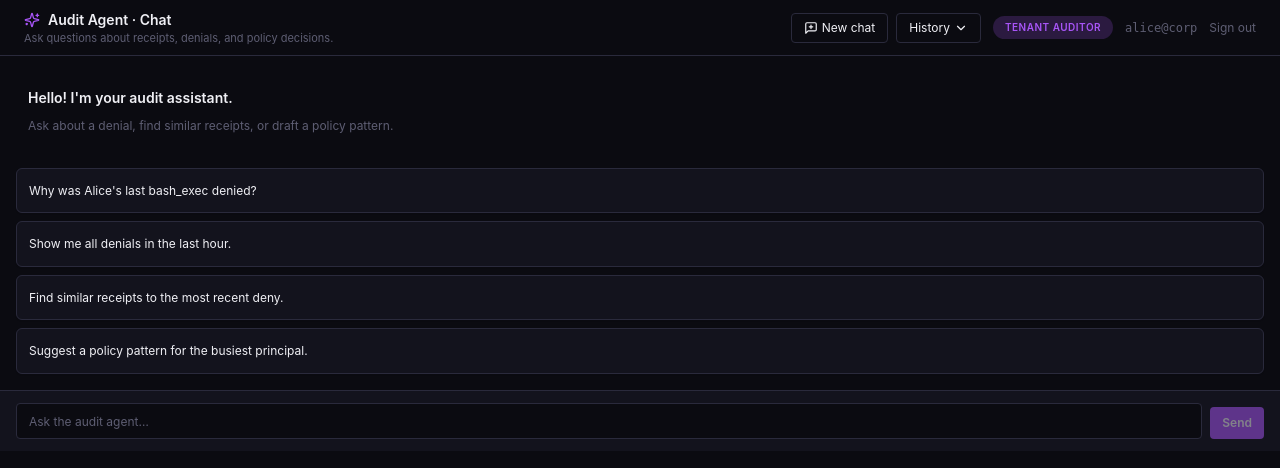
ChatPage — F5 standalone chat surface › History dropdown opens on click and lists past conversations
The image size is (1280, 468).
Click the button with test id "chat-history-toggle" at (939, 28), box [896, 12, 981, 42]
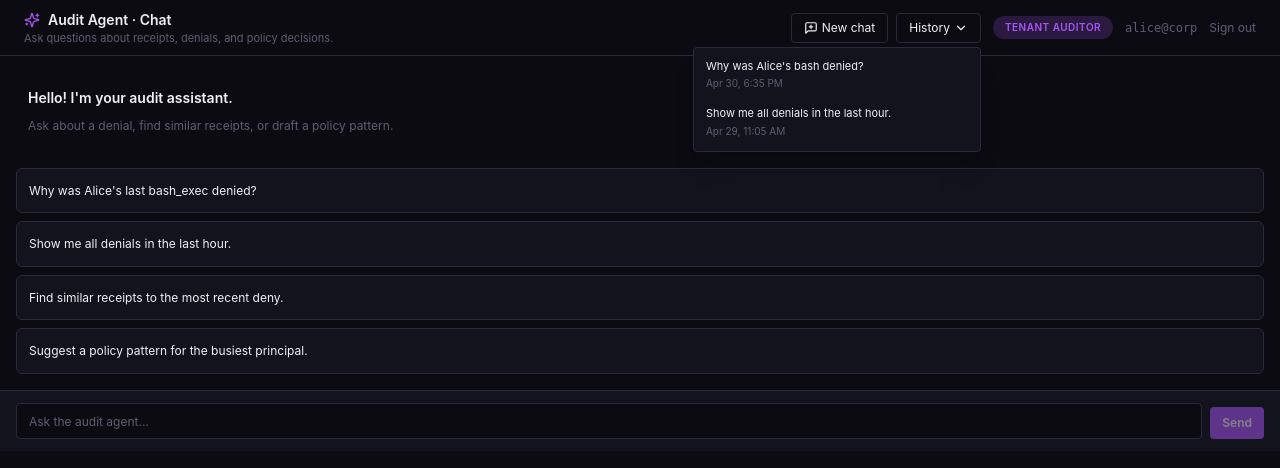
Expected: the list with test id "chat-history-list" is shown, [693, 46, 981, 152]
Expected: the option with test id "chat-history-row-conv-old-1" shows "Why was Alice", [694, 52, 980, 99]
Expected: the option with test id "chat-history-row-conv-old-2" shows "Show me all denials", [694, 99, 980, 147]
